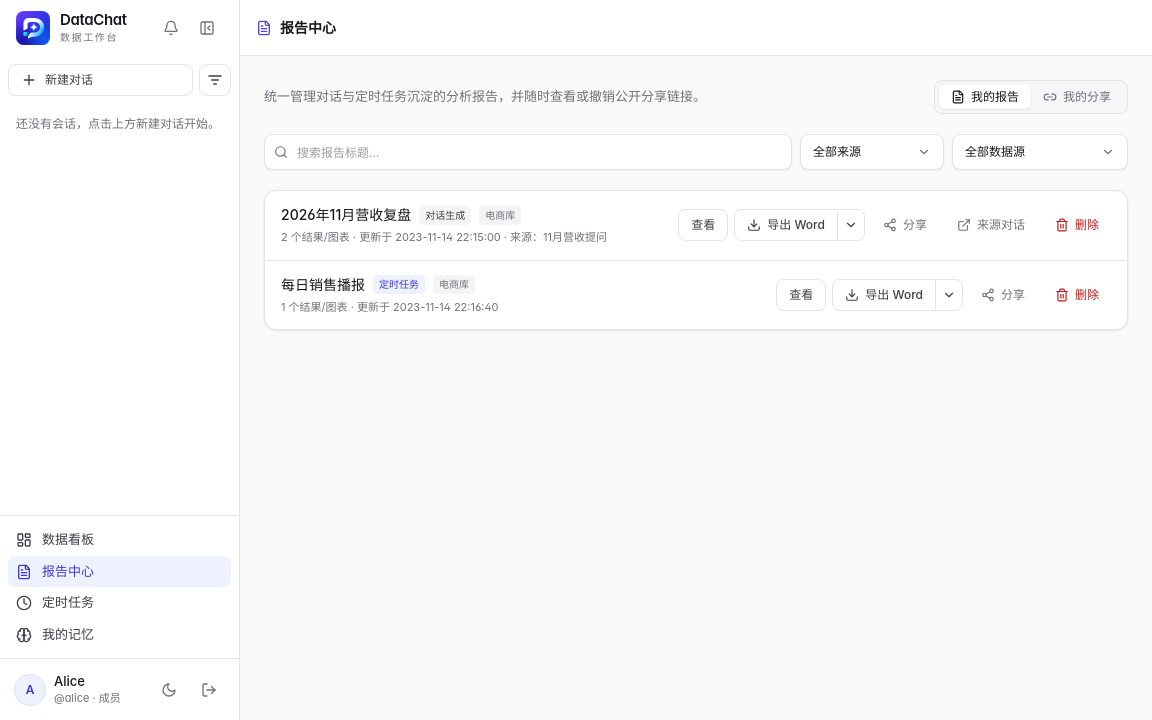
Scenario: ReportsPage › lists reports, supports search/source filtering, and deletes a report
expect the link "2026年11月营收复盘" is shown: met, box left=281, top=205, right=411, bottom=225
expect the link "每日销售播报" is shown: met, box left=281, top=274, right=365, bottom=294
Type "营收" into the field labelled "搜索报告标题" at (528, 152), box left=264, top=134, right=792, bottom=170
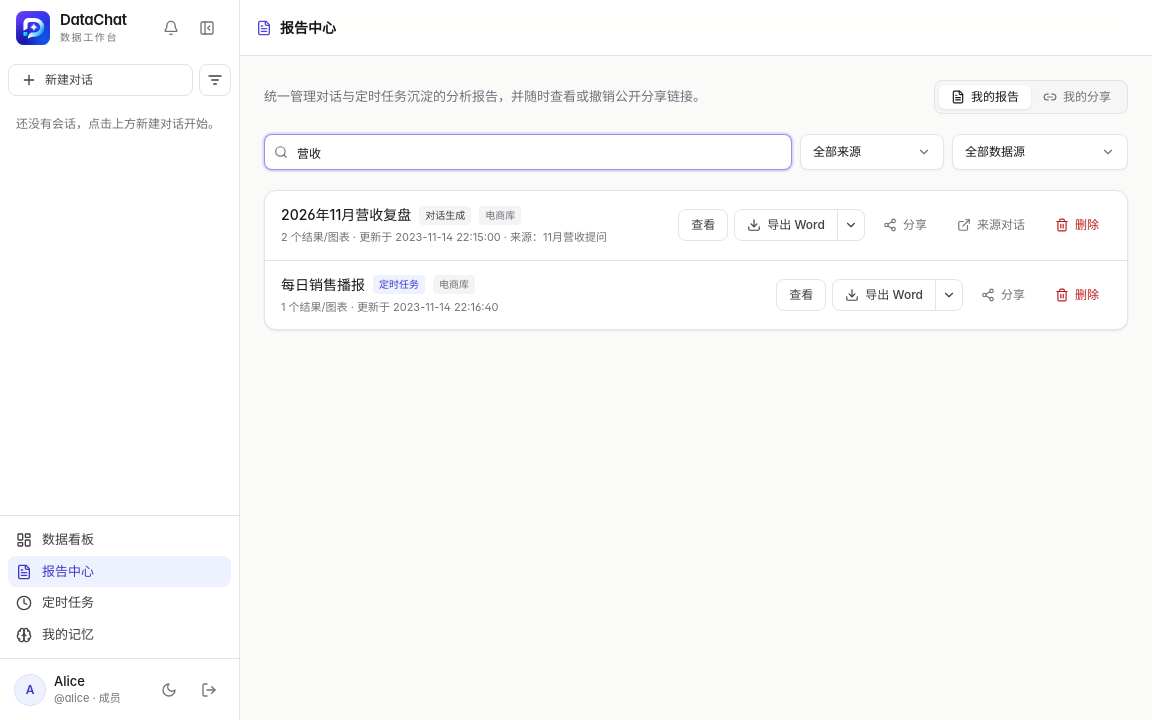
Click the button with aria-label "删除报告 2026年11月营收复盘" at (1077, 225), box left=1043, top=209, right=1111, bottom=241
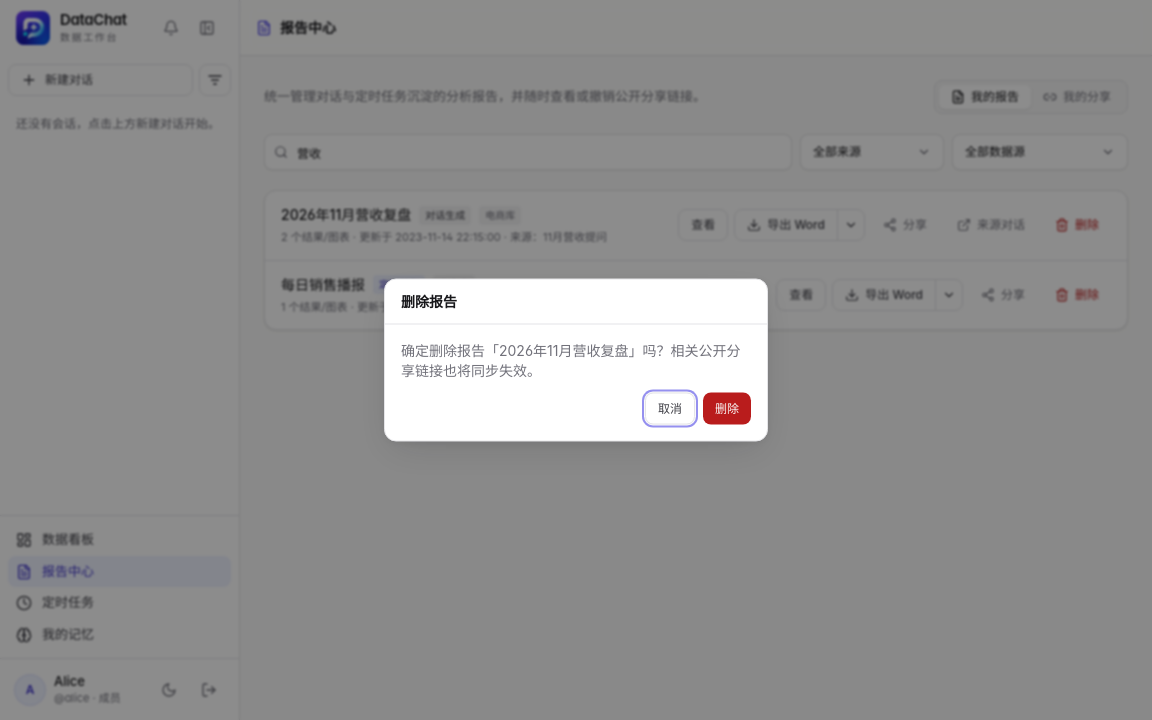
expect the heading "删除报告" is shown: met, box left=401, top=292, right=457, bottom=310
Click the button "删除" at (727, 408), box left=703, top=392, right=751, bottom=424
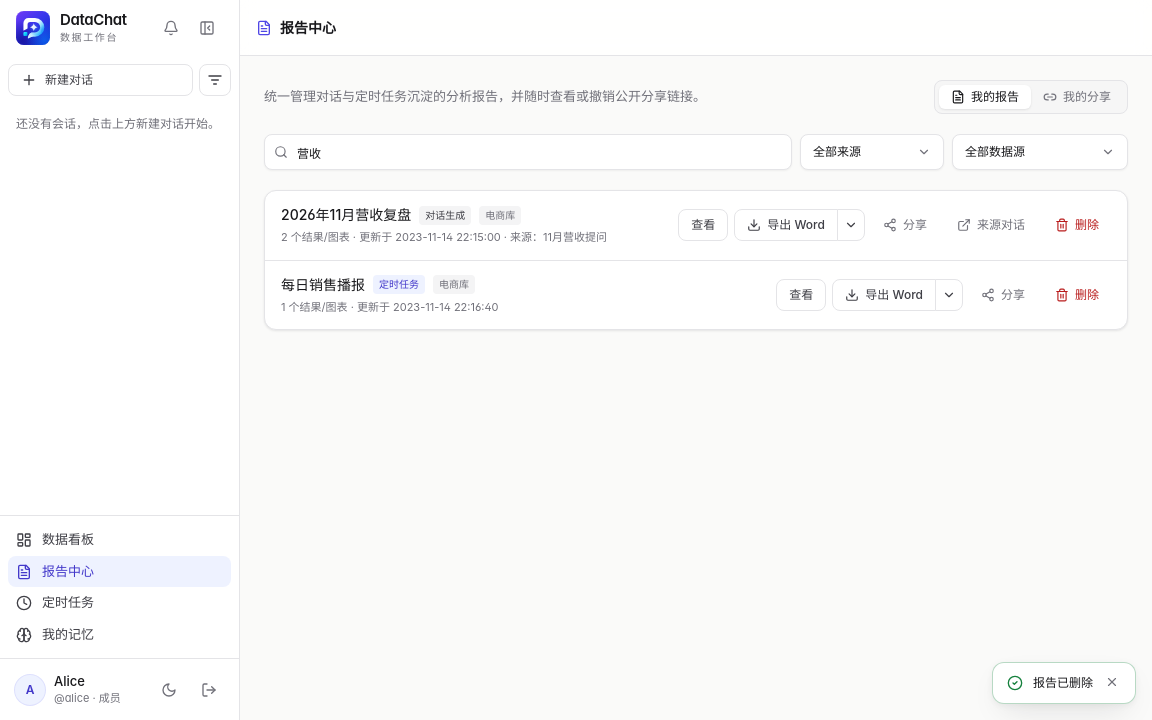
expect the text "报告已删除" is shown: met, box left=1033, top=673, right=1093, bottom=693
